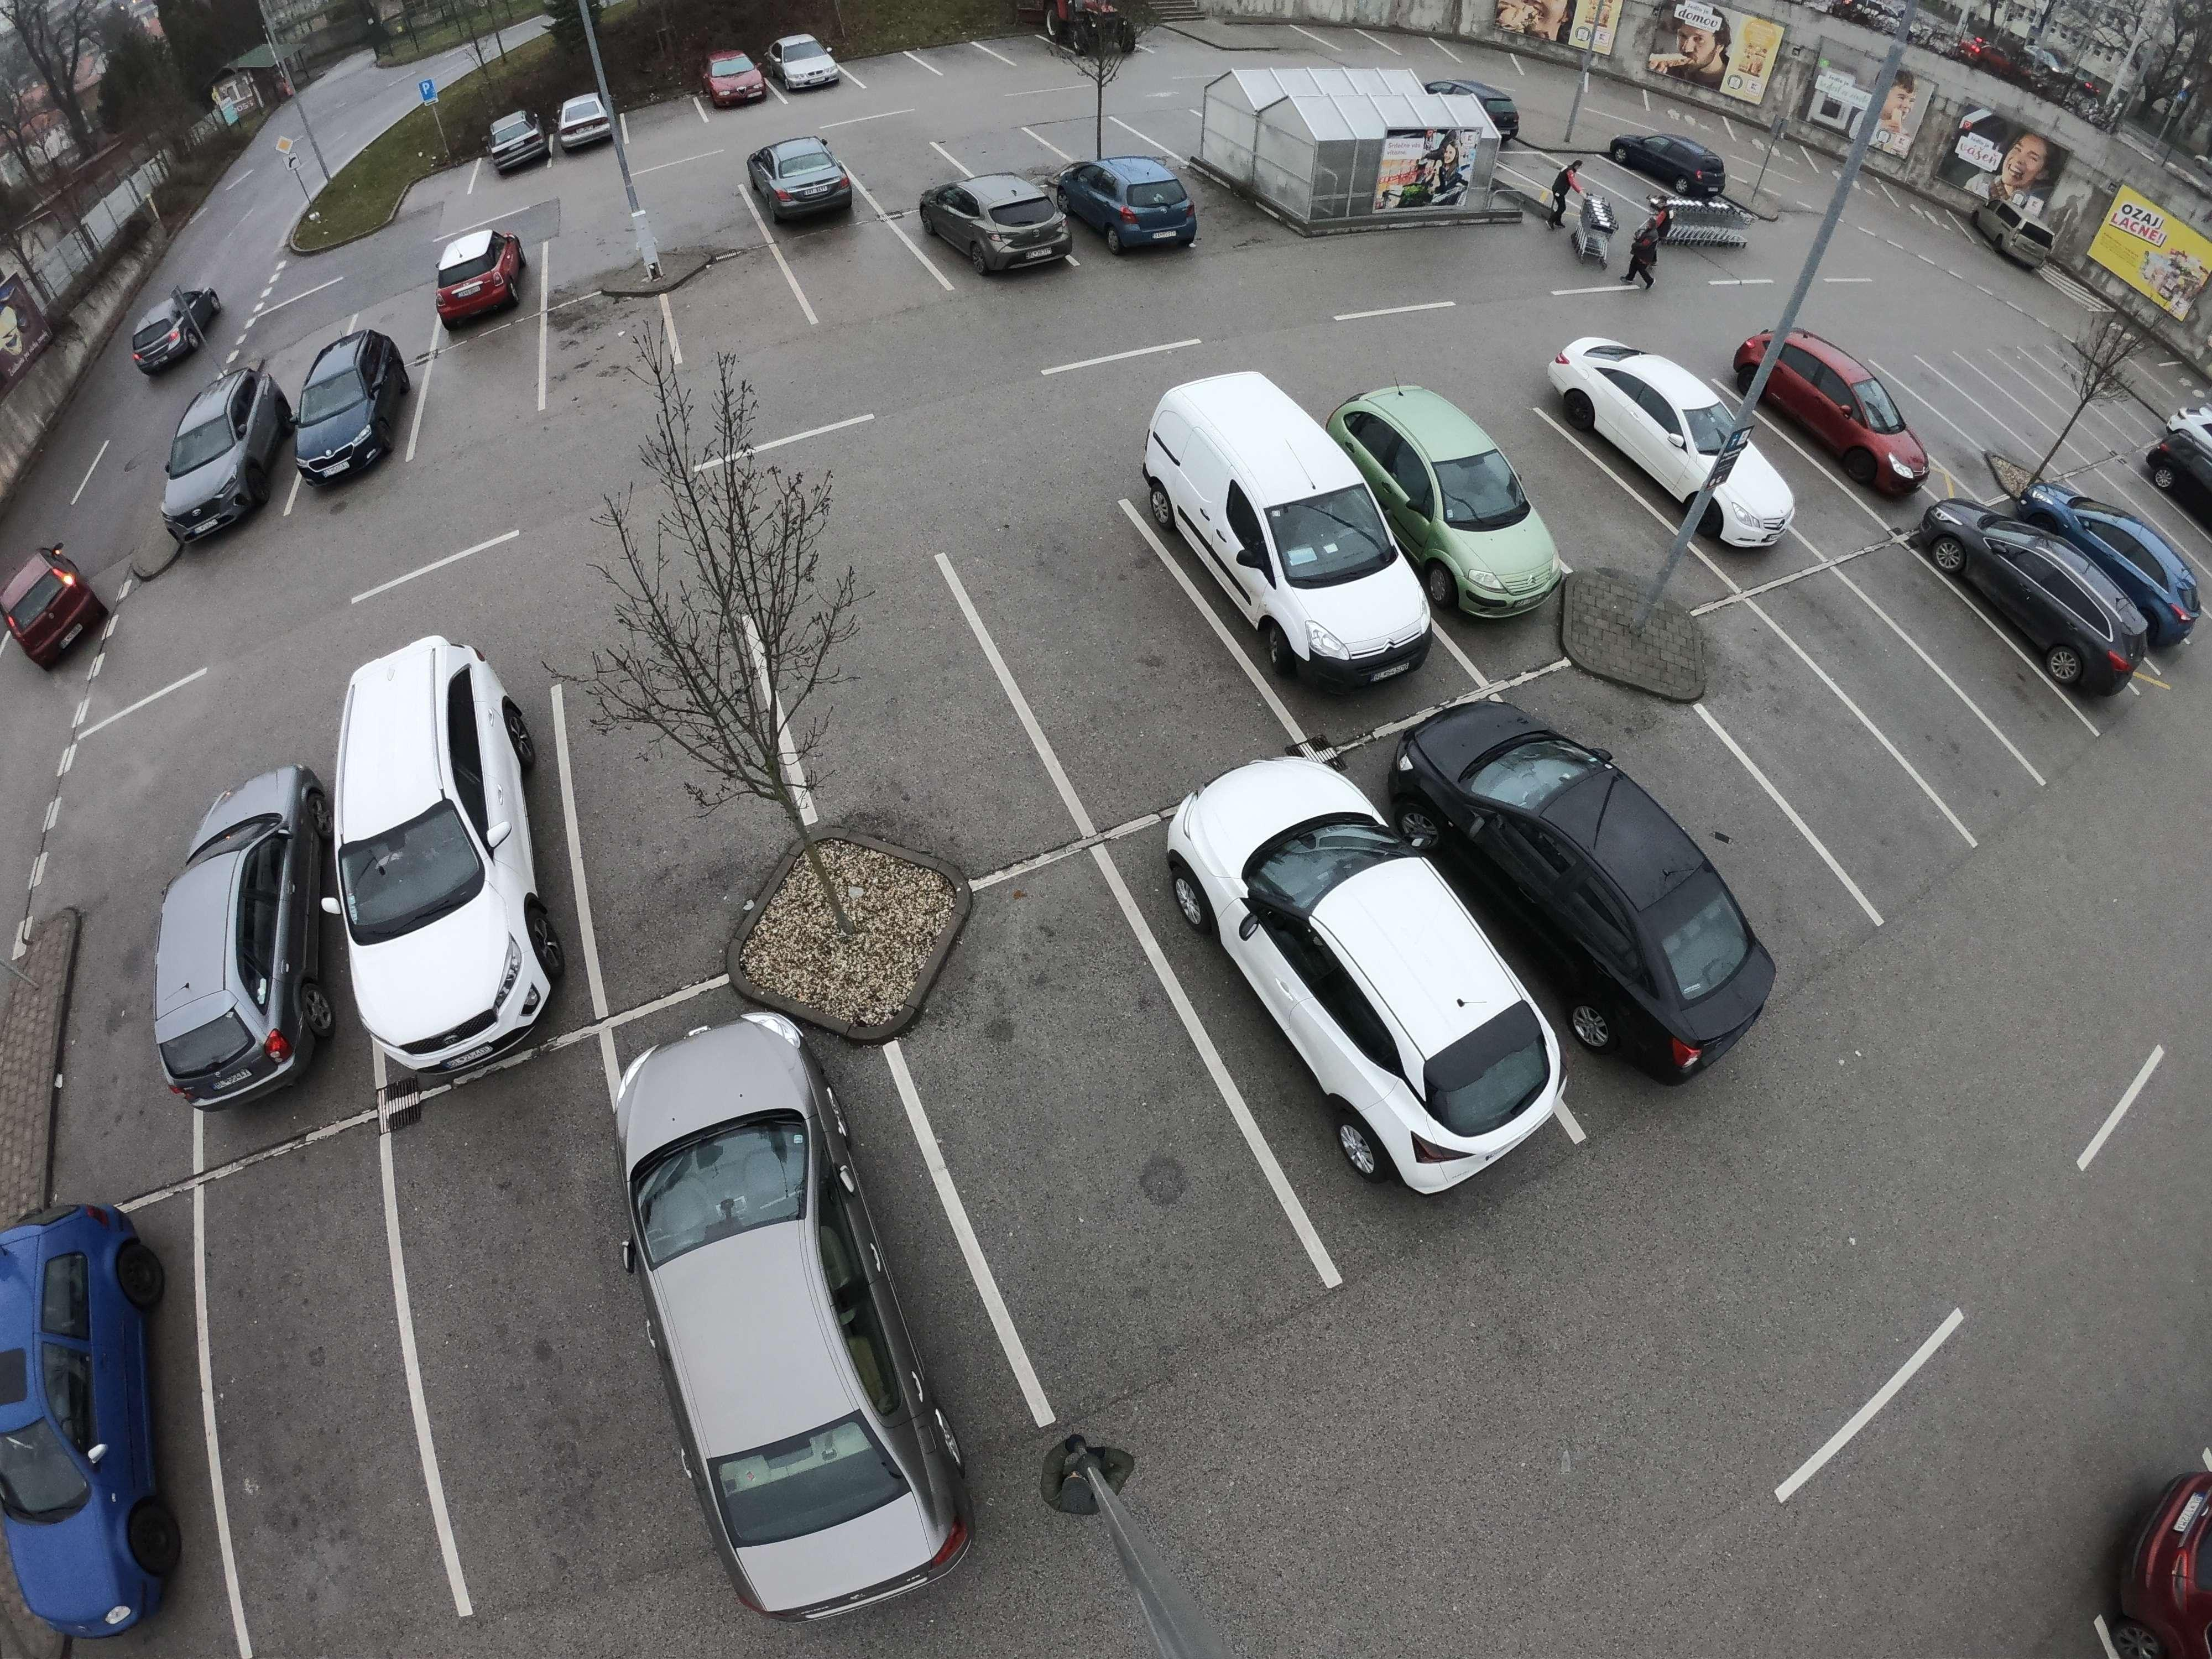empty: (604, 1002, 956, 1633), (1197, 772, 1569, 1192), (298, 622, 582, 1065), (1447, 709, 1766, 1061), (1132, 376, 1442, 697), (0, 1173, 197, 1638), (139, 765, 331, 1112), (1928, 500, 2175, 690), (1367, 397, 1580, 617), (1561, 352, 1789, 552), (1752, 336, 1935, 497), (139, 368, 287, 530), (275, 326, 418, 490), (2109, 1448, 2210, 1659), (925, 171, 1082, 277), (1059, 143, 1205, 254), (421, 214, 535, 326), (740, 138, 866, 232), (1609, 118, 1740, 207), (127, 284, 226, 373), (2155, 427, 2212, 558), (765, 30, 843, 94), (482, 106, 554, 176), (695, 47, 770, 113), (547, 91, 624, 153)
occupied: (961, 992, 1177, 1185), (226, 1281, 402, 1486), (423, 1201, 613, 1389), (578, 720, 763, 873), (1723, 385, 1864, 542), (852, 680, 1015, 810), (61, 948, 188, 1108), (1024, 592, 1183, 702), (1496, 423, 1639, 542), (1629, 742, 1761, 857), (421, 350, 535, 434), (557, 303, 669, 385), (1763, 704, 1865, 786), (1911, 579, 2000, 673), (549, 214, 650, 282), (1841, 643, 1937, 709), (697, 284, 796, 343), (815, 244, 913, 303), (1042, 108, 1123, 178), (855, 141, 941, 199), (667, 190, 752, 244), (949, 127, 1031, 179), (1897, 397, 1963, 448), (1958, 378, 2010, 439), (2015, 371, 2074, 418), (995, 38, 1061, 75), (927, 49, 995, 82), (643, 94, 695, 134), (864, 56, 921, 89)
